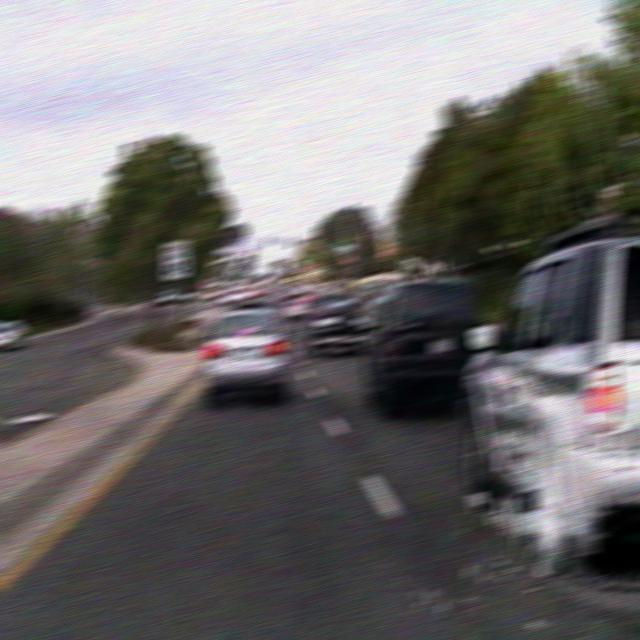speedLimit45: (161, 239, 190, 278)
